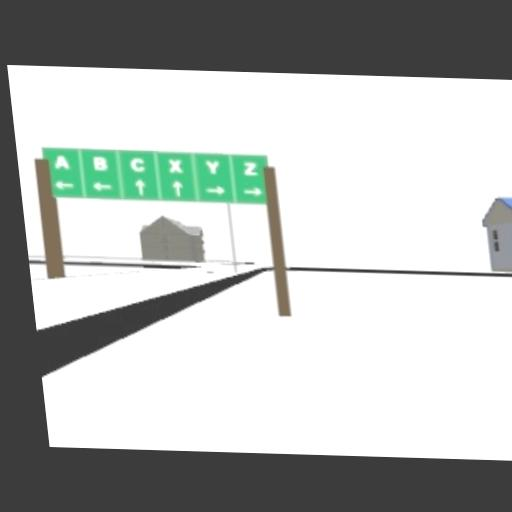A: (53, 155, 71, 170)
B: (93, 156, 109, 171)
C: (128, 156, 145, 173)
Left: (92, 182, 113, 193), (54, 179, 74, 190)
Right: (205, 184, 226, 198), (242, 186, 263, 198)
Straight: (133, 177, 147, 196), (172, 181, 184, 199)
X: (168, 158, 184, 173)
Y: (205, 159, 221, 174)
Z: (242, 162, 258, 176)
